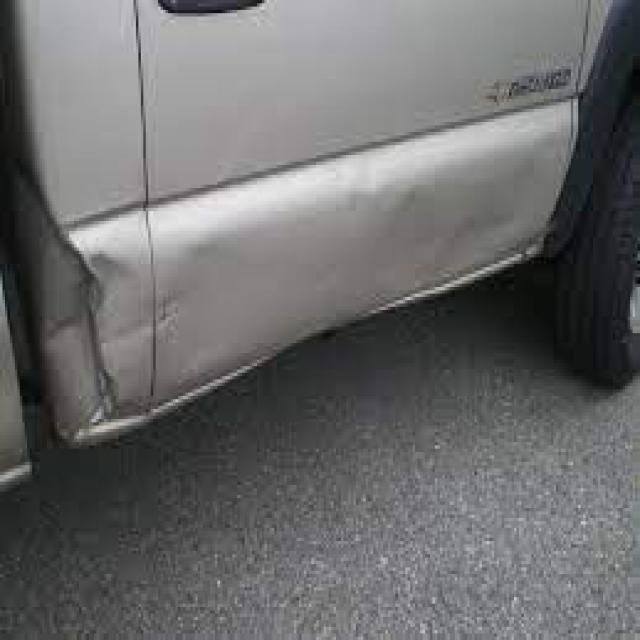doorouter-dent: (37, 224, 183, 448), (351, 171, 546, 274), (262, 297, 351, 363)
